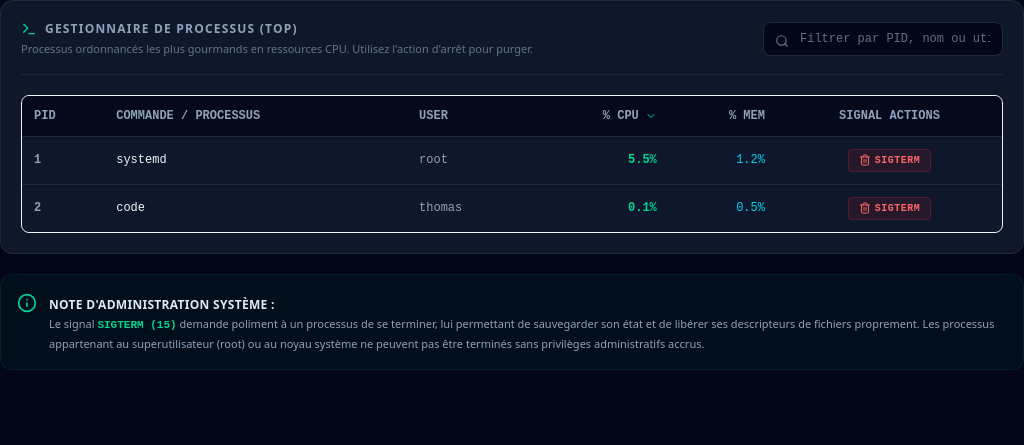
Test case: ProcessesTable › affiche un message de succès après arrêt
Click the button "SIGTERM" in the row of "systemd" at point(889, 160), box left=848, top=148, right=931, bottom=172
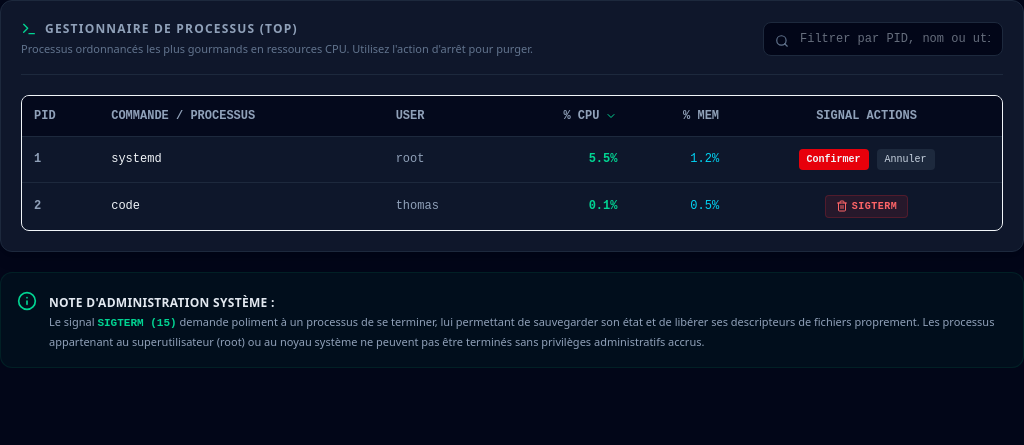
Click the button "Confirmer" at point(834, 159), box left=798, top=148, right=868, bottom=170
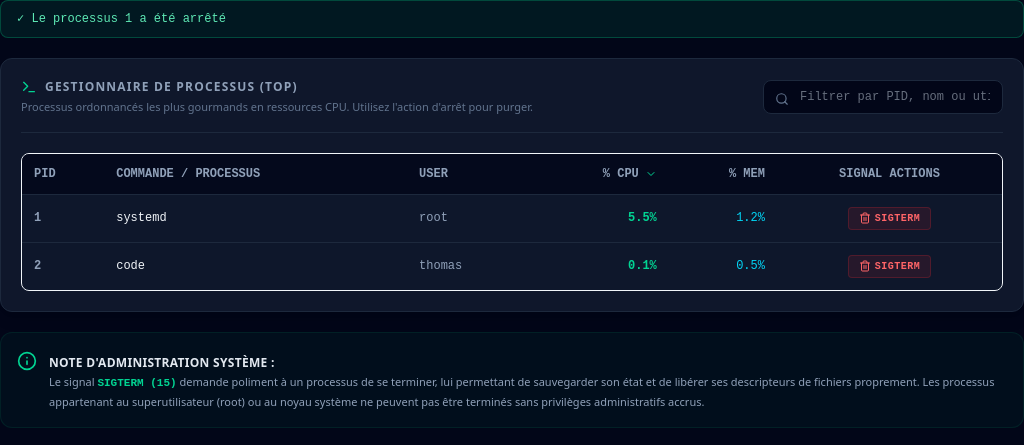
Expected: the text "✓ Le processus 1 a été arrêté" is shown, left=0, top=0, right=1023, bottom=38
